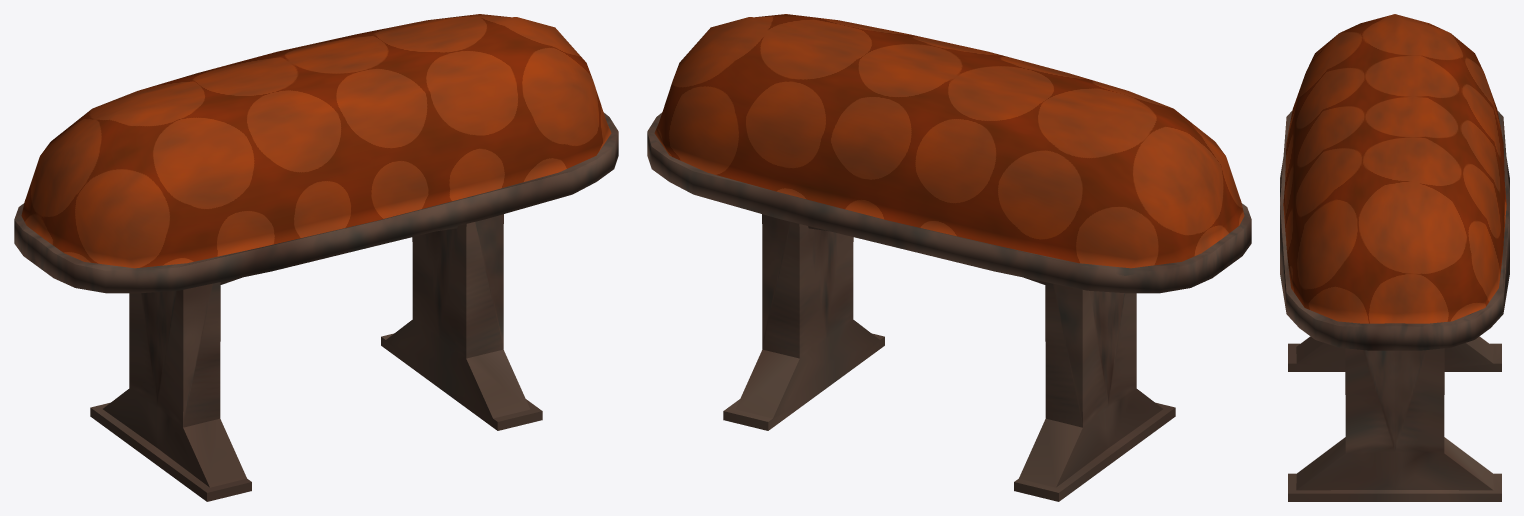
Rendered from hijioki.fbx.
3 renders of one model, left to right at view 1: azimuth 30°, elevation 25°; view 2: azimuth 150°, elevation 25°; view 3: azimuth 270°, elevation 25°, orthographic. The views are drawn at different scales.
Parts seen in each view (by area): view 1: hijioki; view 2: hijioki; view 3: hijioki.
Part boxes in pixels (left/top/right/bottom): hijioki: left=14, top=14, right=618, bottom=501; hijioki: left=647, top=14, right=1251, bottom=501; hijioki: left=1280, top=14, right=1509, bottom=501.
Size of the model in its own units: 0.5 by 0.3027 by 0.1953.
Materials: 1 (1 with a texture image).
